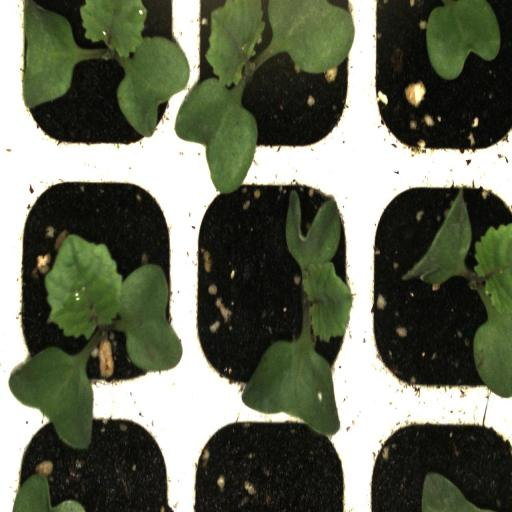Folha: (9, 346, 93, 450), (426, 0, 501, 80), (13, 474, 85, 512), (421, 472, 482, 512)
Germinacao: (10, 165, 188, 411), (184, 168, 362, 410), (361, 166, 512, 406), (7, 0, 190, 169), (187, 0, 361, 173)
